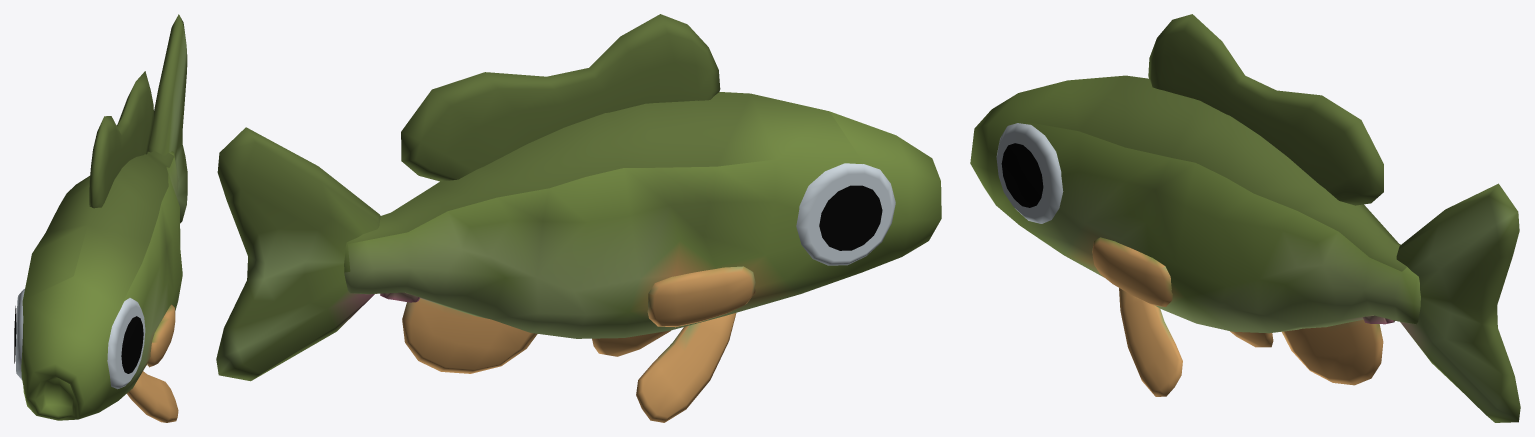
The model's file is Bass.glb.
3 views of the same model, side by side, from view 1: azimuth 30°, elevation 25°; view 2: azimuth 150°, elevation 25°; view 3: azimuth 270°, elevation 25° (orthographic). The views are drawn at different scales.
Visible parts, largest first — view 1: 9; view 2: 9; view 3: 9.
Part boxes in pixels (bbox=[...]): 9: bbox=[14, 14, 187, 422]; 9: bbox=[216, 14, 941, 422]; 9: bbox=[970, 14, 1520, 422].
Size of the model in its own units: 0.6137 by 0.4761 by 0.6754.
